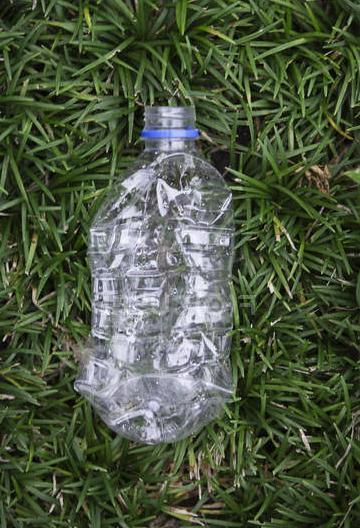Plastic: (67, 99, 245, 456)
